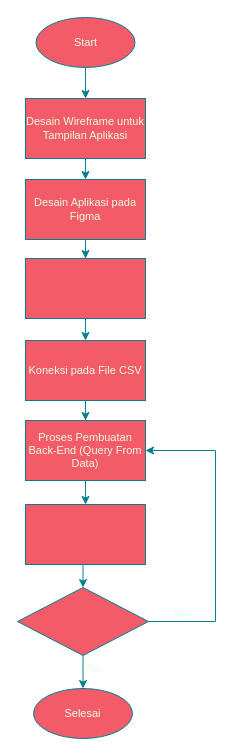
Some shapes in this 241 by 756 pixel diagram are drawn without their labels. Each missing label, with the box of its shape:
Apakah terdapat masalah?: (16, 586, 148, 656)
Pegujian Aplikasi Mobile?: (24, 504, 146, 564)
Slicing Desain Aplikasi (Pemotongan File/Elemen): (24, 258, 146, 318)
